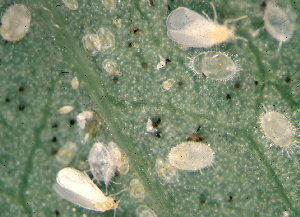whitefly: (166, 3, 247, 49), (52, 167, 124, 216)
